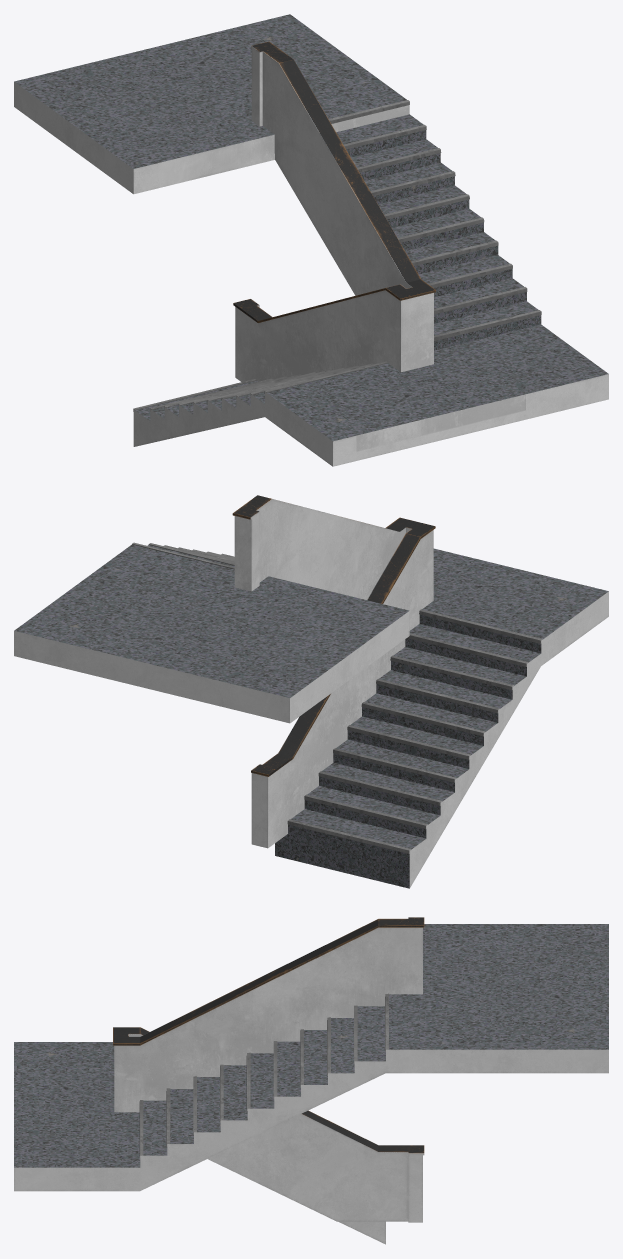
The model's file is SM_StairsInterior_U.fbx.
3 views of the same model, one above another, from view 1: azimuth 30°, elevation 25°; view 2: azimuth 150°, elevation 25°; view 3: azimuth 270°, elevation 25° (orthographic). The views are drawn at different scales.
Visible parts, largest first — view 1: SM_StairsInterior_U_LOD0; view 2: SM_StairsInterior_U_LOD0; view 3: SM_StairsInterior_U_LOD0.
Part boxes in pixels (box(x1,y1,x2,y2)): SM_StairsInterior_U_LOD0: box(14, 14, 608, 466); SM_StairsInterior_U_LOD0: box(14, 495, 608, 888); SM_StairsInterior_U_LOD0: box(14, 917, 608, 1244).
Size of the model in its own units: 400 by 800 by 488.
